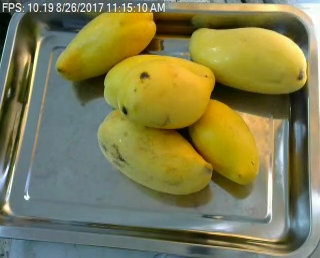Mango: (97, 107, 212, 193), (189, 27, 306, 93), (55, 6, 156, 79), (116, 59, 213, 129), (187, 96, 258, 183), (102, 54, 215, 107)
